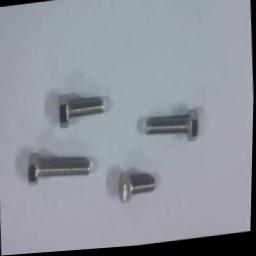Non-corroded-Bolts: (29, 153, 91, 186), (146, 111, 199, 144), (59, 95, 104, 129), (119, 172, 156, 205)
